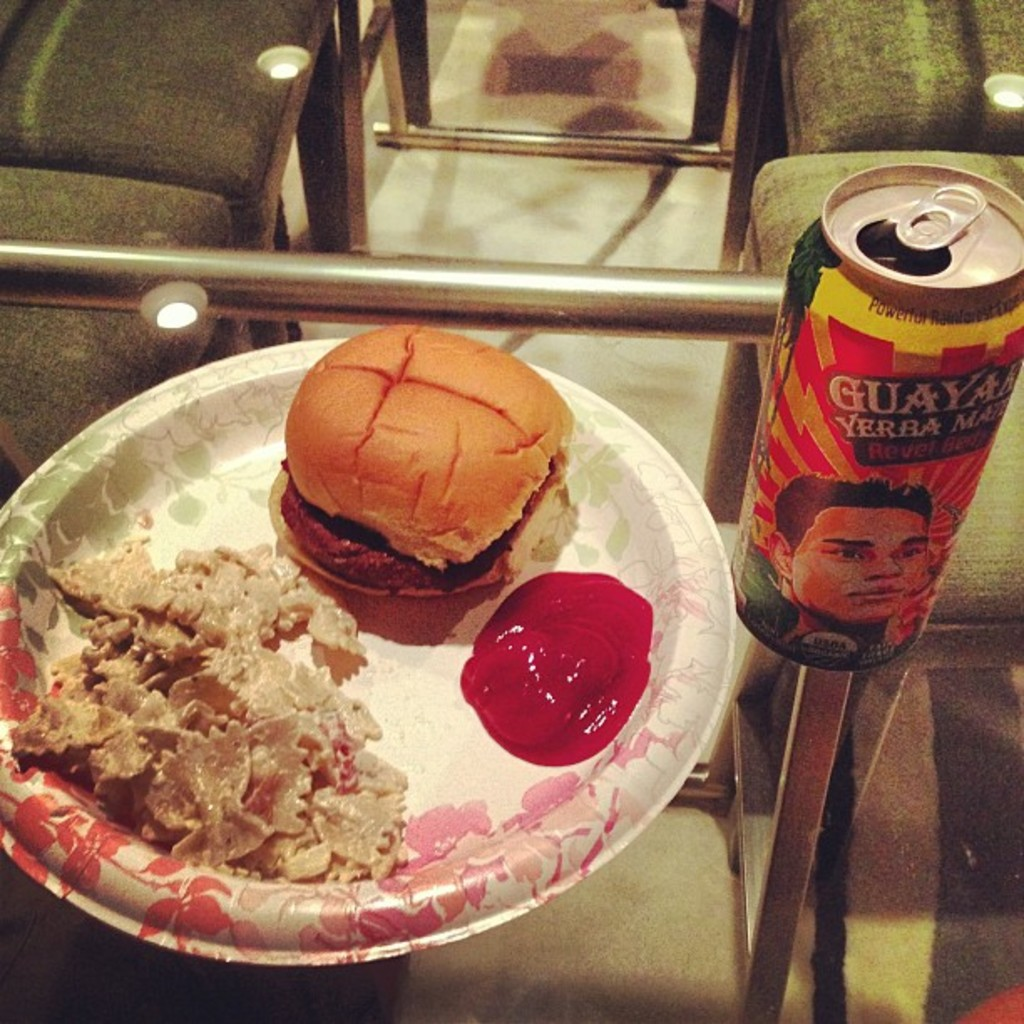Hamburger: (267, 326, 578, 597)
